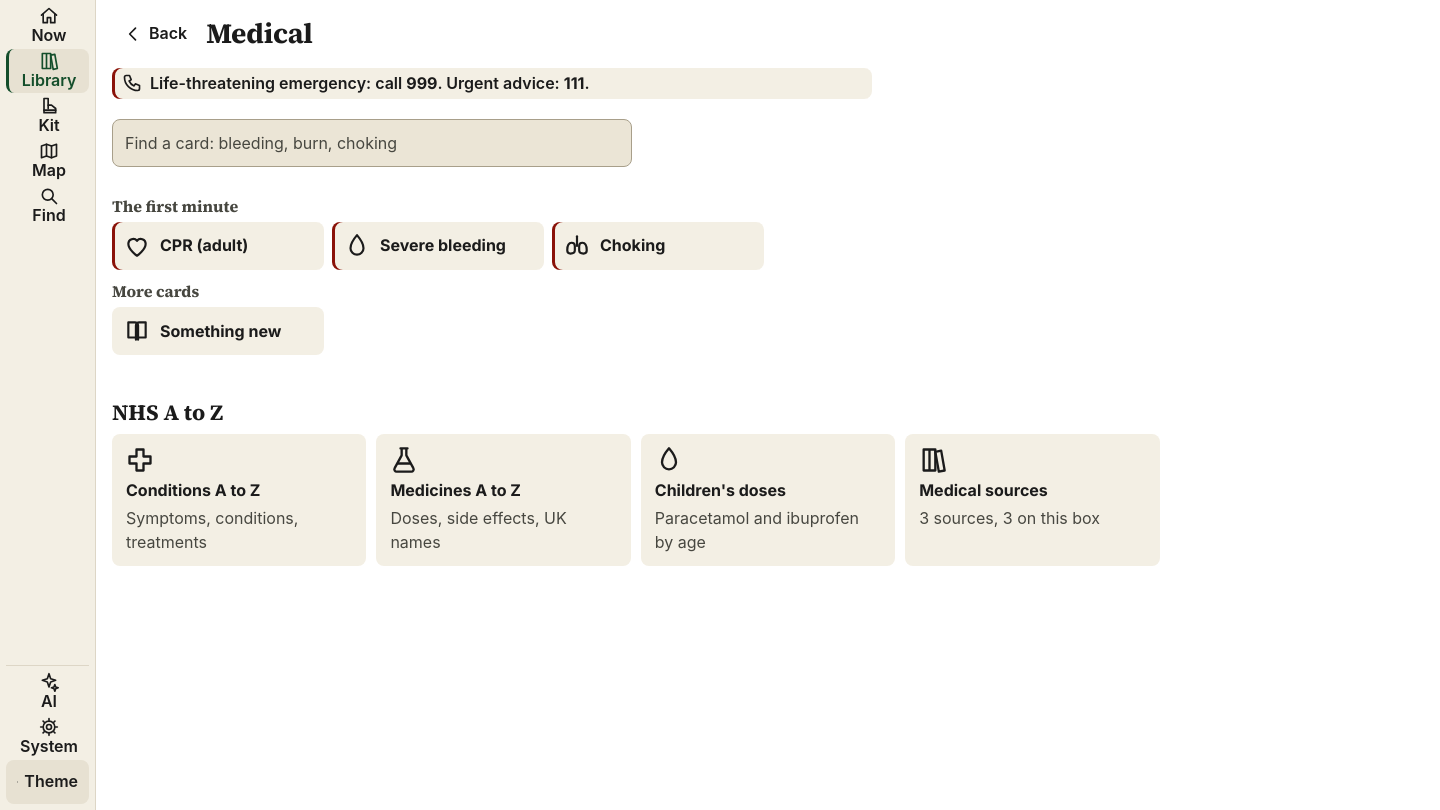
Test: Medical card groups › groups the cards, the first minute first, and filters them by title or summary
Check: the headings read "The first minute", "More cards", in this order, box [112,195,238,217]; [112,280,199,302]
In the search field labelled "Find a card": (372, 143) [112,119,632,167], type "soaks"
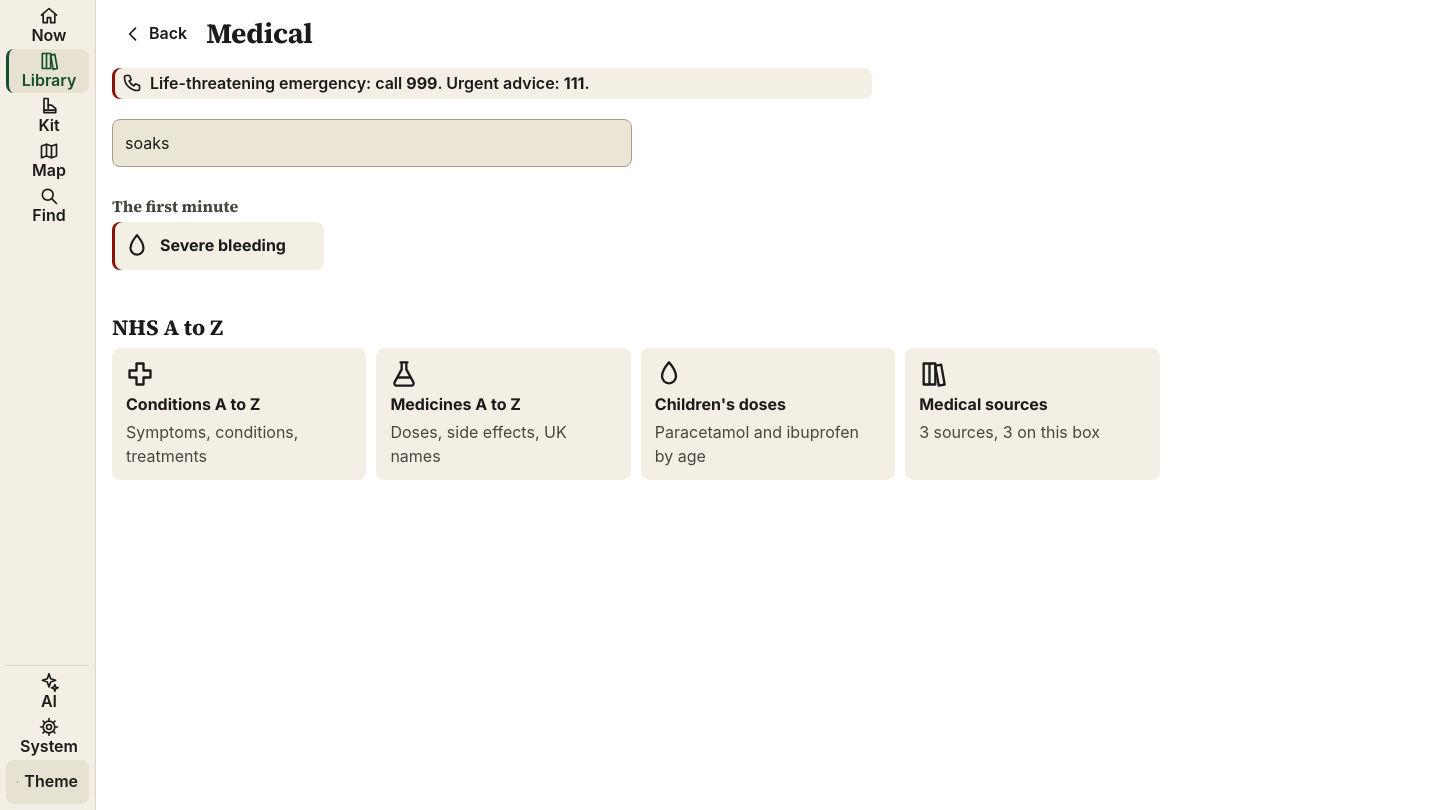
Replace the text in the search field named "Find a card" with "zzz": (372, 143) [112,119,632,167]
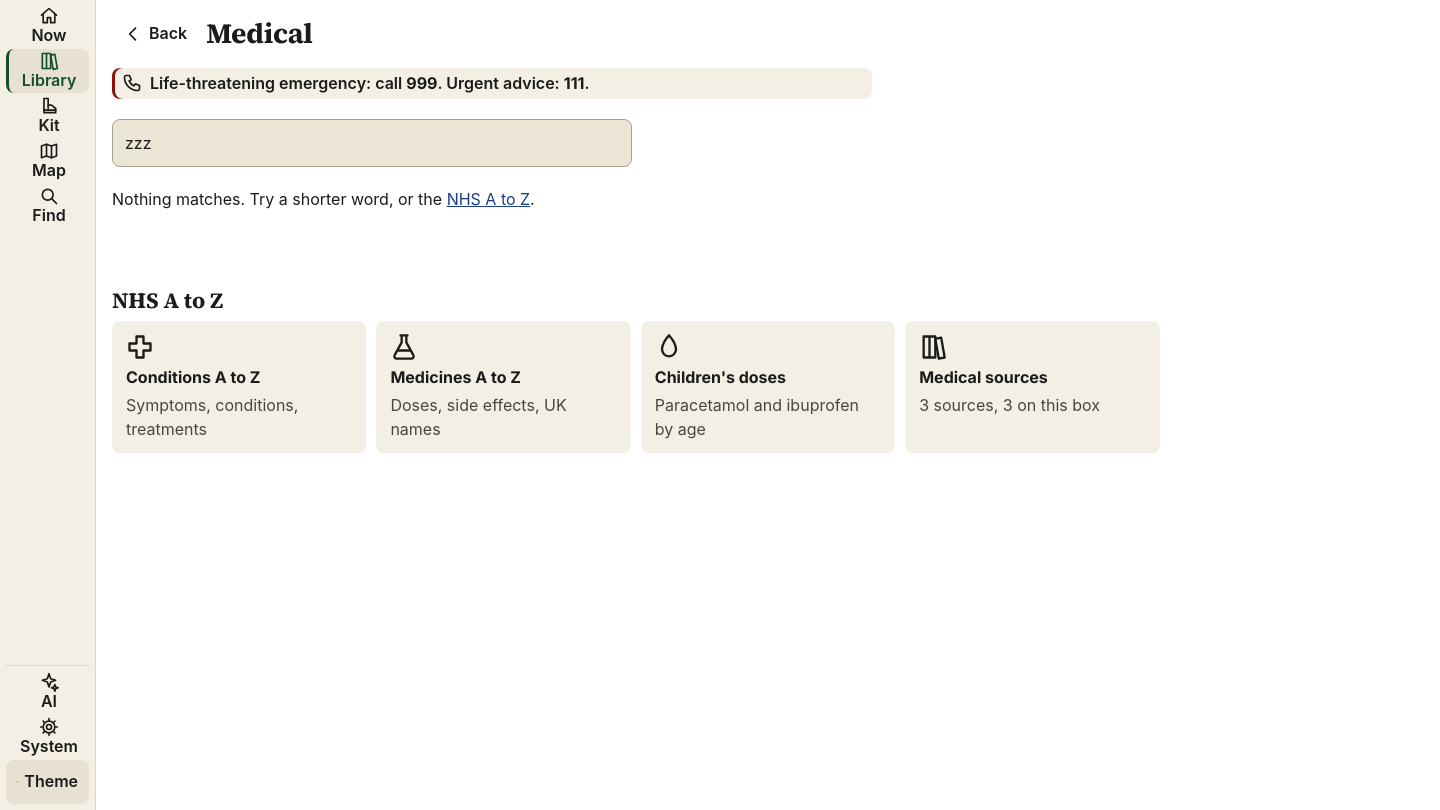
Check: the text "Nothing matches. Try a shorter word, or the NHS A to Z ." is shown, box [112,189,535,209]
